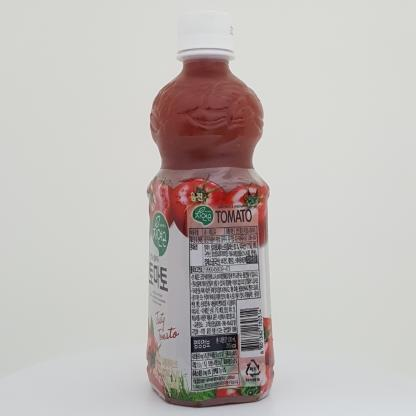--------500ML: (146, 9, 275, 409)
